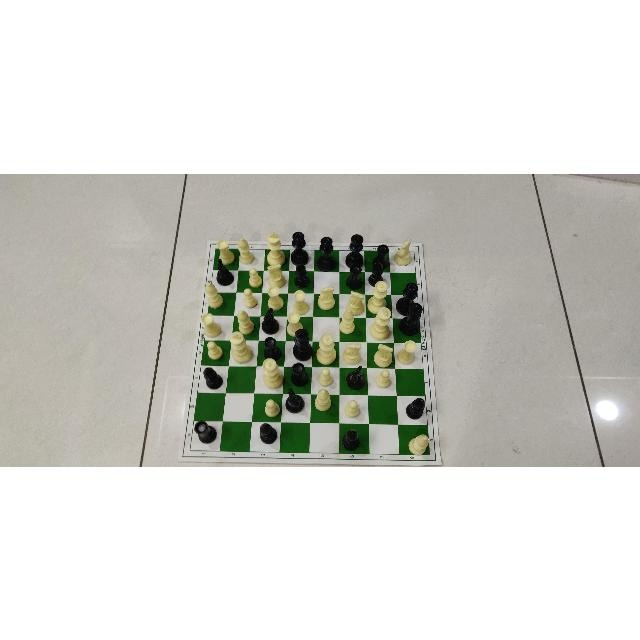black-bishop: (405, 396, 427, 420), (340, 427, 360, 451), (367, 260, 385, 286), (294, 260, 310, 288), (203, 366, 223, 388), (258, 422, 277, 444)
black-king: (398, 301, 423, 336), (345, 232, 365, 268), (293, 327, 313, 360)
black-knight: (260, 307, 280, 335), (215, 257, 234, 285), (345, 364, 365, 390), (285, 387, 305, 413)
black-queen: (395, 281, 419, 316), (290, 229, 310, 266), (316, 235, 336, 272)
black-rook: (192, 418, 217, 444), (344, 262, 363, 289), (290, 361, 309, 387), (371, 244, 389, 270), (263, 335, 281, 361)
white-bishop: (204, 282, 224, 308), (406, 433, 429, 455), (237, 237, 255, 264), (236, 309, 255, 334), (338, 308, 356, 334), (313, 388, 332, 412)
white-king: (367, 305, 392, 341), (228, 330, 253, 364), (265, 231, 286, 267)
white-knight: (393, 238, 413, 266), (372, 342, 394, 367), (265, 262, 286, 287), (346, 290, 366, 316), (341, 341, 363, 364), (316, 285, 335, 311)
white-pawn: (373, 368, 392, 388), (206, 339, 224, 360), (317, 367, 335, 387), (263, 398, 280, 418), (247, 266, 263, 287), (242, 287, 258, 308), (343, 399, 360, 417)
white-queen: (366, 279, 388, 315), (261, 356, 285, 389), (314, 331, 337, 365)
white-rook: (200, 312, 222, 338), (216, 237, 236, 265), (397, 339, 417, 365), (266, 284, 284, 311), (292, 288, 310, 314), (286, 311, 304, 337)
